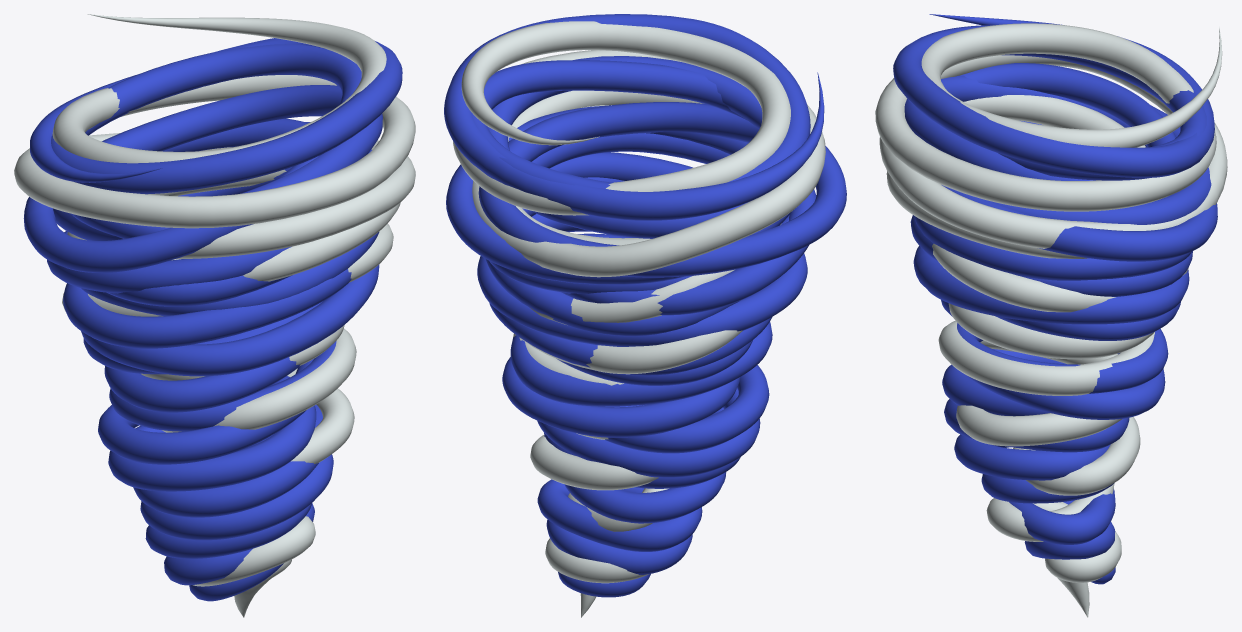
File: tornado.fbx
The picture shows the model from 3 angles, left to right: view 1: azimuth 30°, elevation 25°; view 2: azimuth 150°, elevation 25°; view 3: azimuth 270°, elevation 25°; orthographic projection. The views are drawn at different scales.
Parts seen in each view (by area): view 1: Tornado; view 2: Tornado; view 3: Tornado.
Boxes of the visible parts, x1=… form: Tornado: x1=14, y1=14, x2=415, y2=617; Tornado: x1=444, y1=14, x2=846, y2=617; Tornado: x1=875, y1=14, x2=1227, y2=617.
Size of the model in its own units: 16618 by 25287 by 14654.
